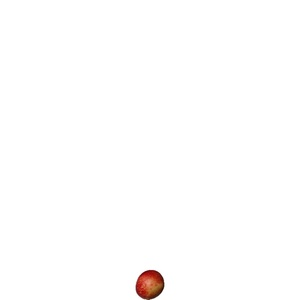nectarina: (137, 270, 165, 300)
